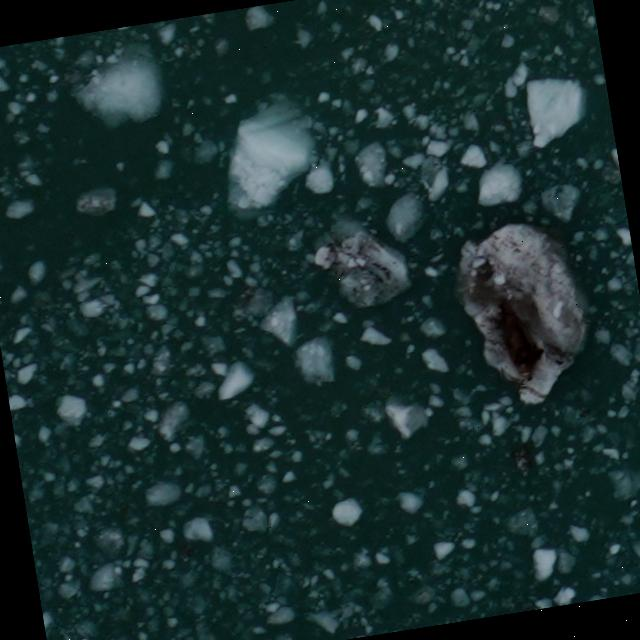seal: (488, 291, 549, 388)
